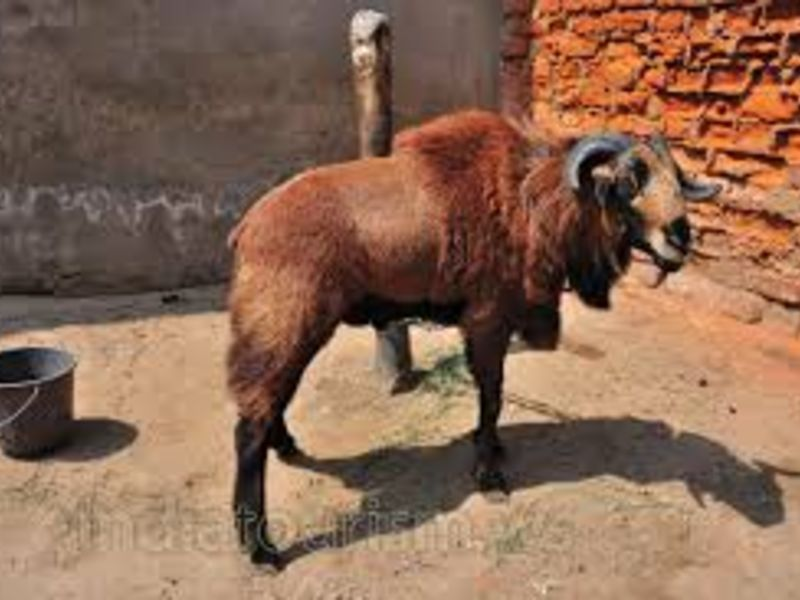goat: (202, 103, 723, 571)
